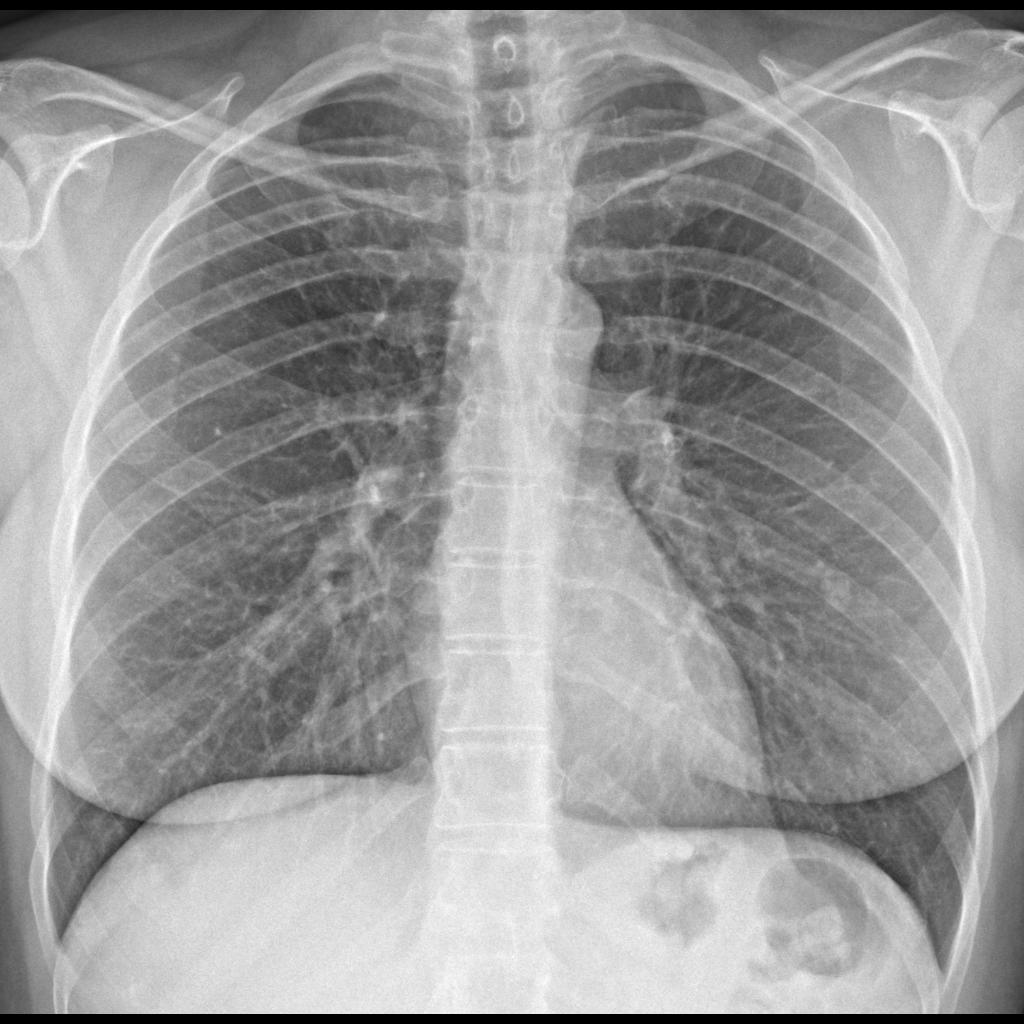Nodule: (815, 562, 864, 625)
